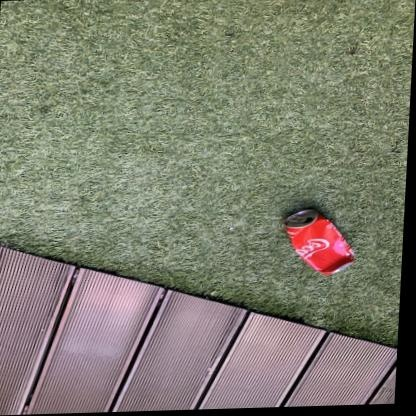trash: (285, 209, 353, 275)
